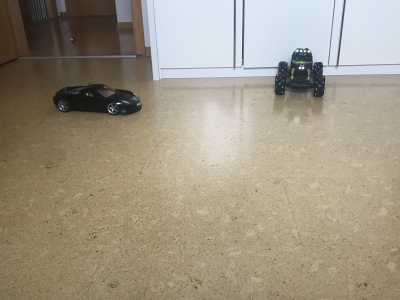remote control car: (269, 44, 328, 99)
